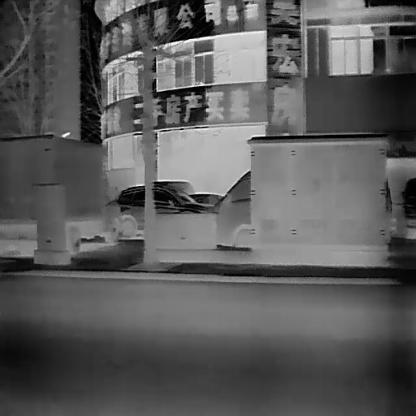car: (105, 182, 218, 236)
